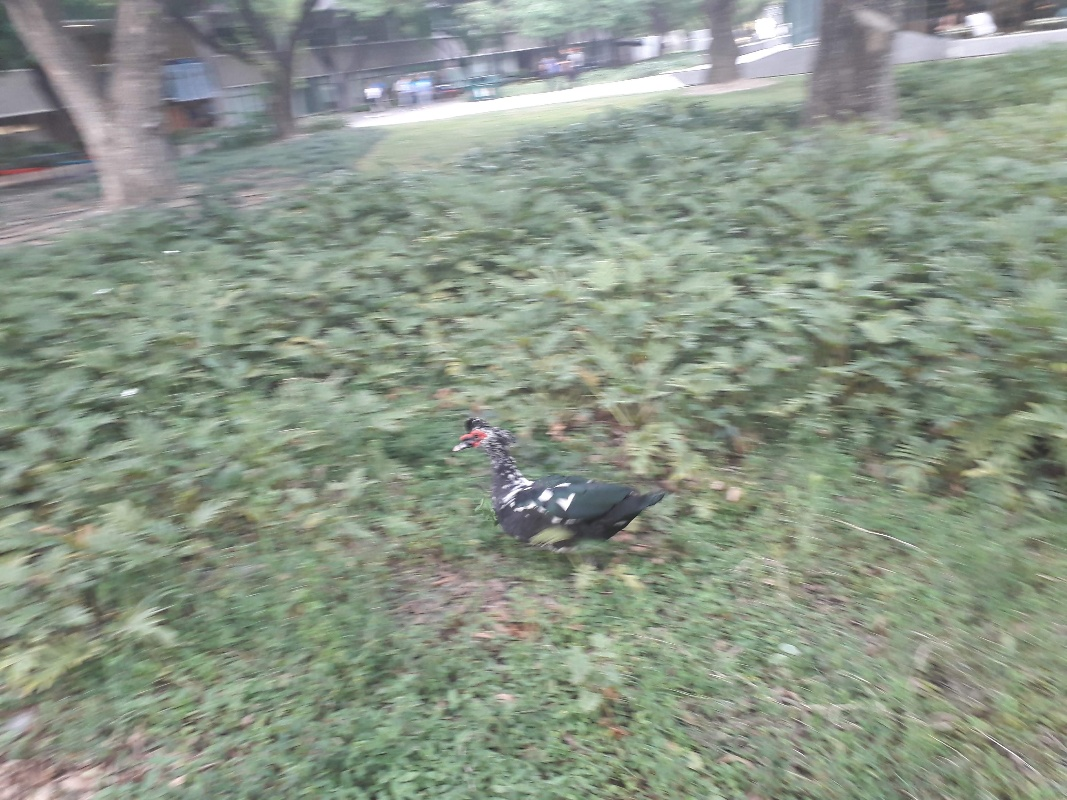pato: (454, 419, 649, 550)
